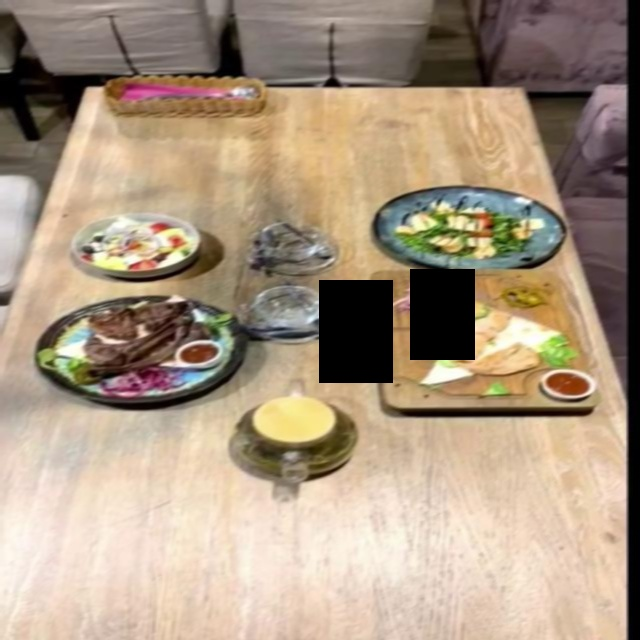meat: (374, 267, 598, 408), (32, 295, 248, 404)
salad: (375, 185, 567, 267), (68, 211, 202, 276)
tea: (229, 395, 359, 480)
